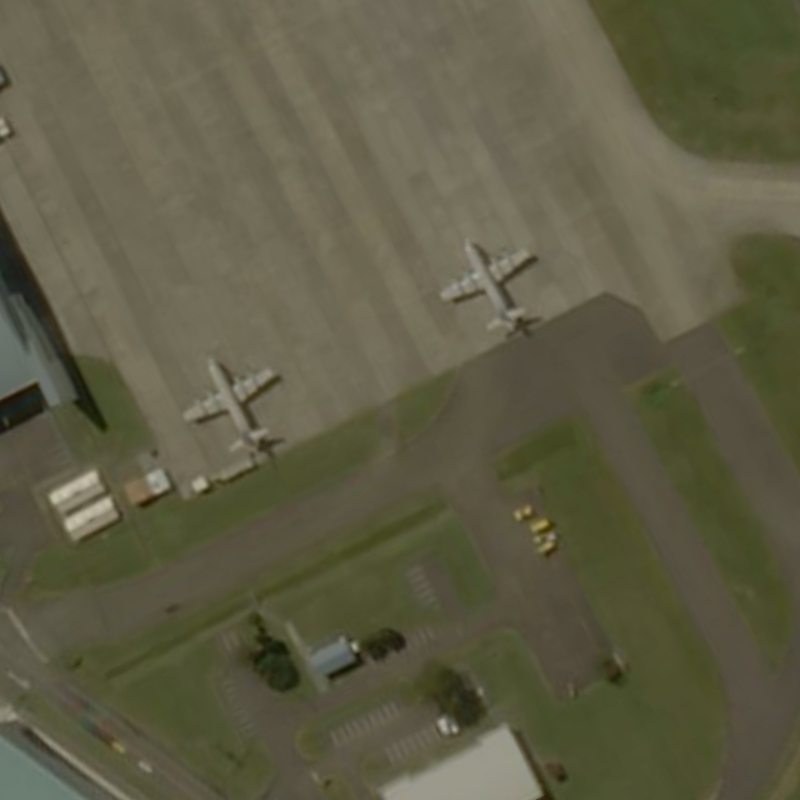A9: (435, 230, 545, 339), (179, 354, 281, 456)
